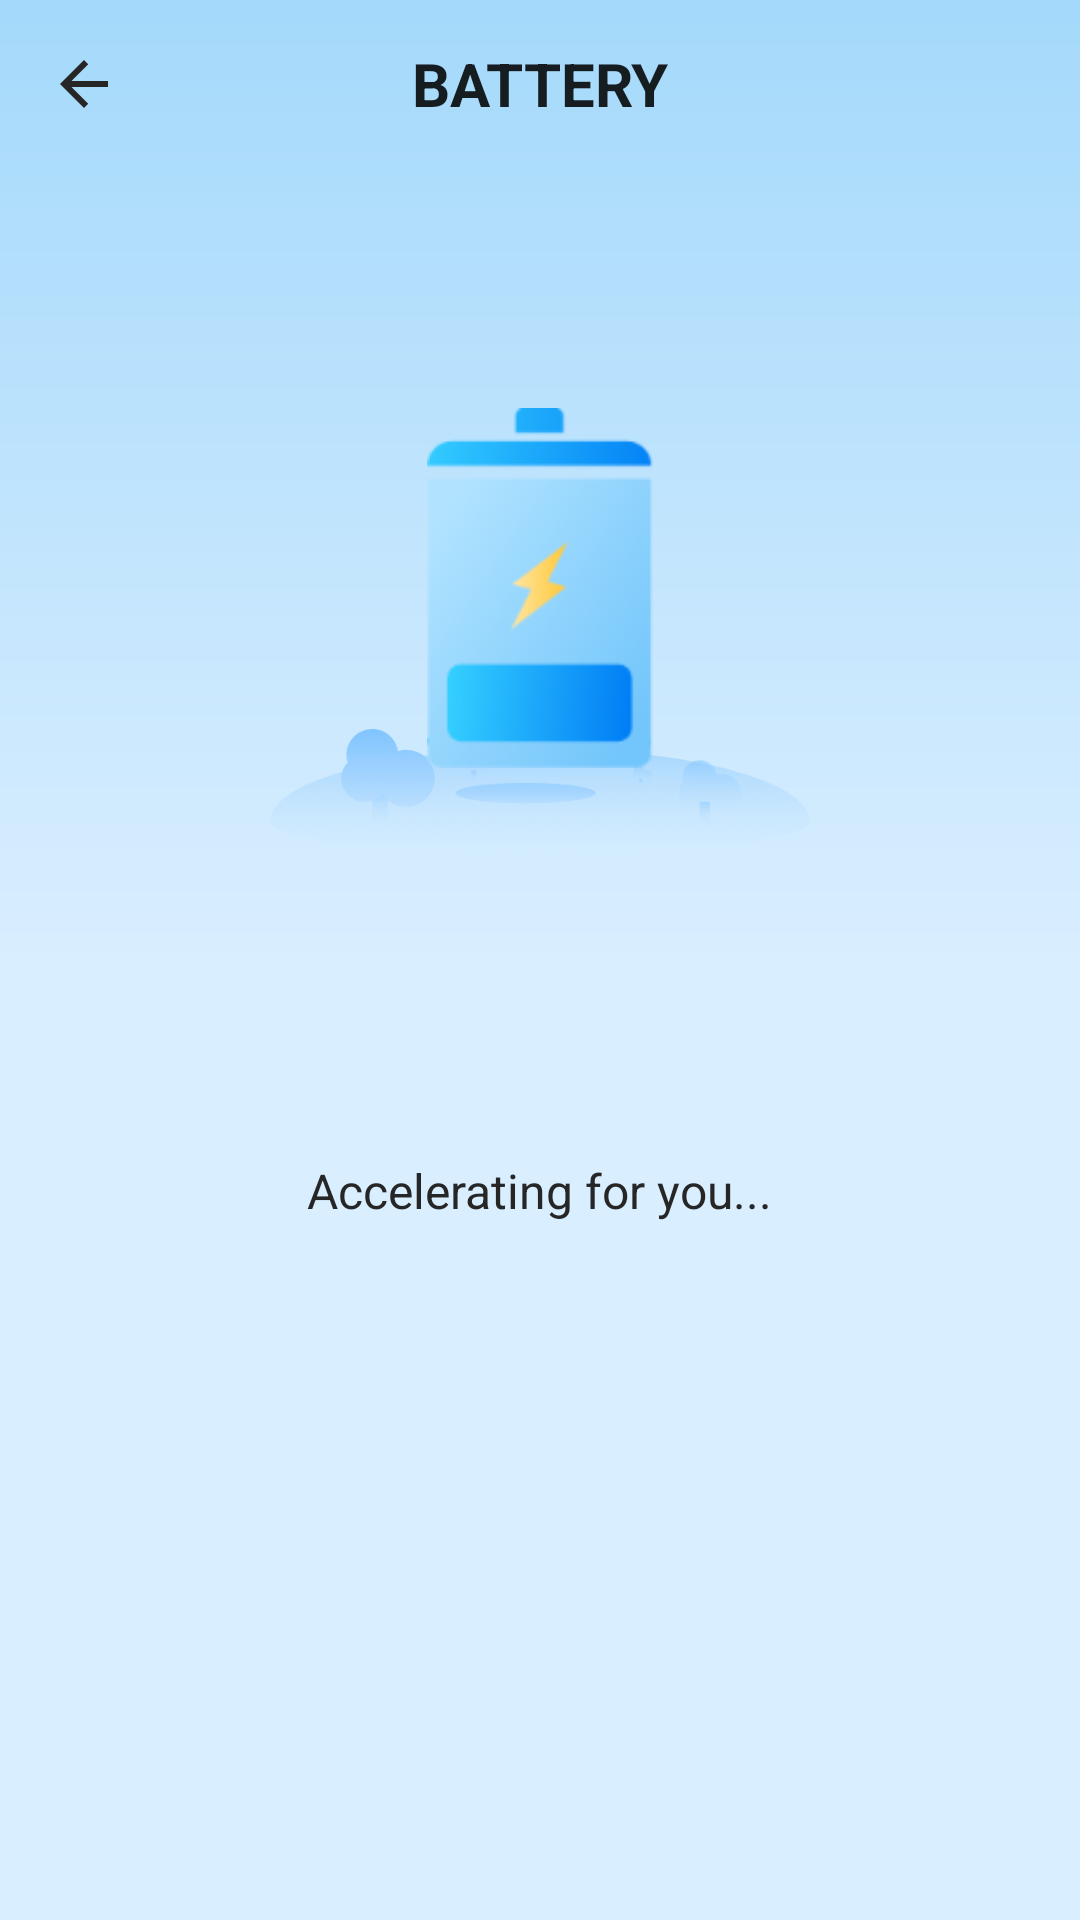

Icon click points for this 1080 × 1920 phone screenshot, format point (x, y):
battery anim: point (540, 588)
